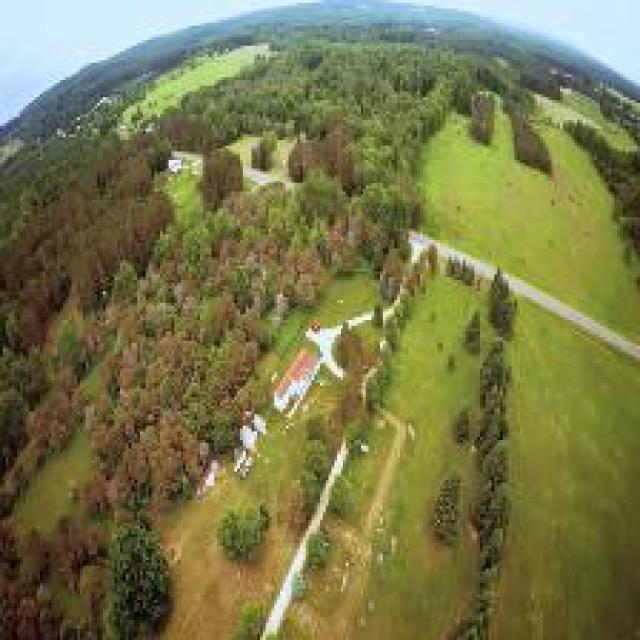other: (280, 300, 400, 634)
